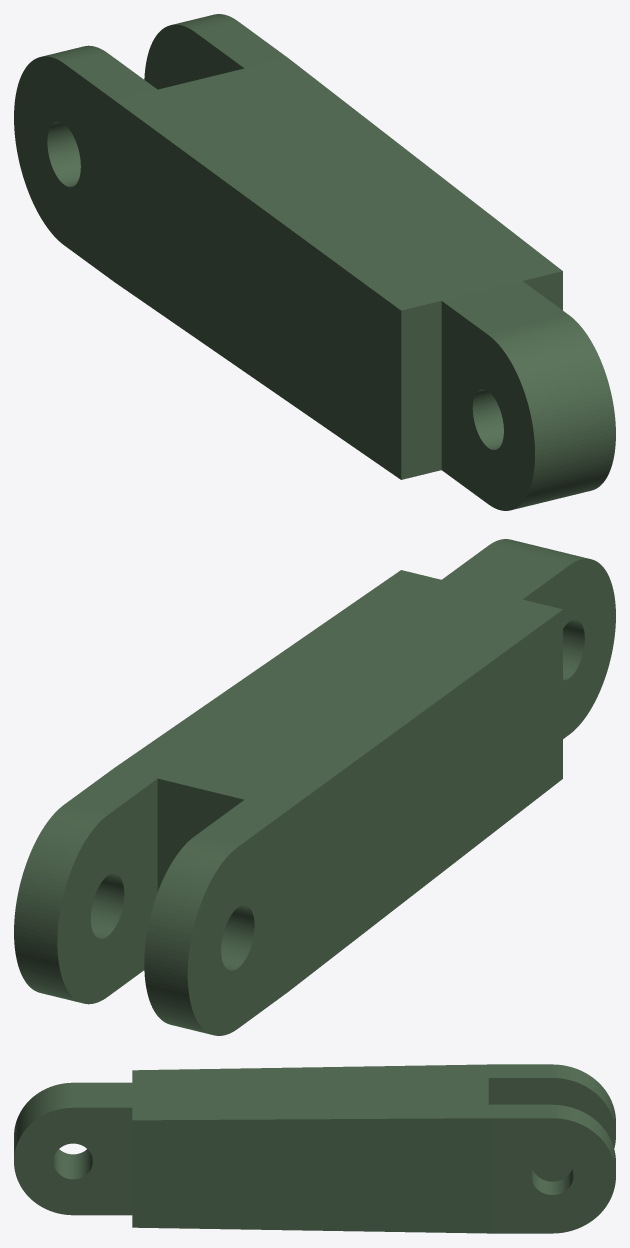
3 renders of one model, top to bottom at view 1: azimuth 30°, elevation 25°; view 2: azimuth 150°, elevation 25°; view 3: azimuth 270°, elevation 25°, orthographic. The views are drawn at different scales.
Parts seen in each view (by area): view 1: node; view 2: node; view 3: node.
Boxes of the visible parts, box(x1,y1,x2,y2) form: node: box(14, 14, 615, 510); node: box(14, 539, 615, 1035); node: box(14, 1064, 615, 1233).
Size of the model in its own units: 0.1071 by 0.1071 by 0.5068.
